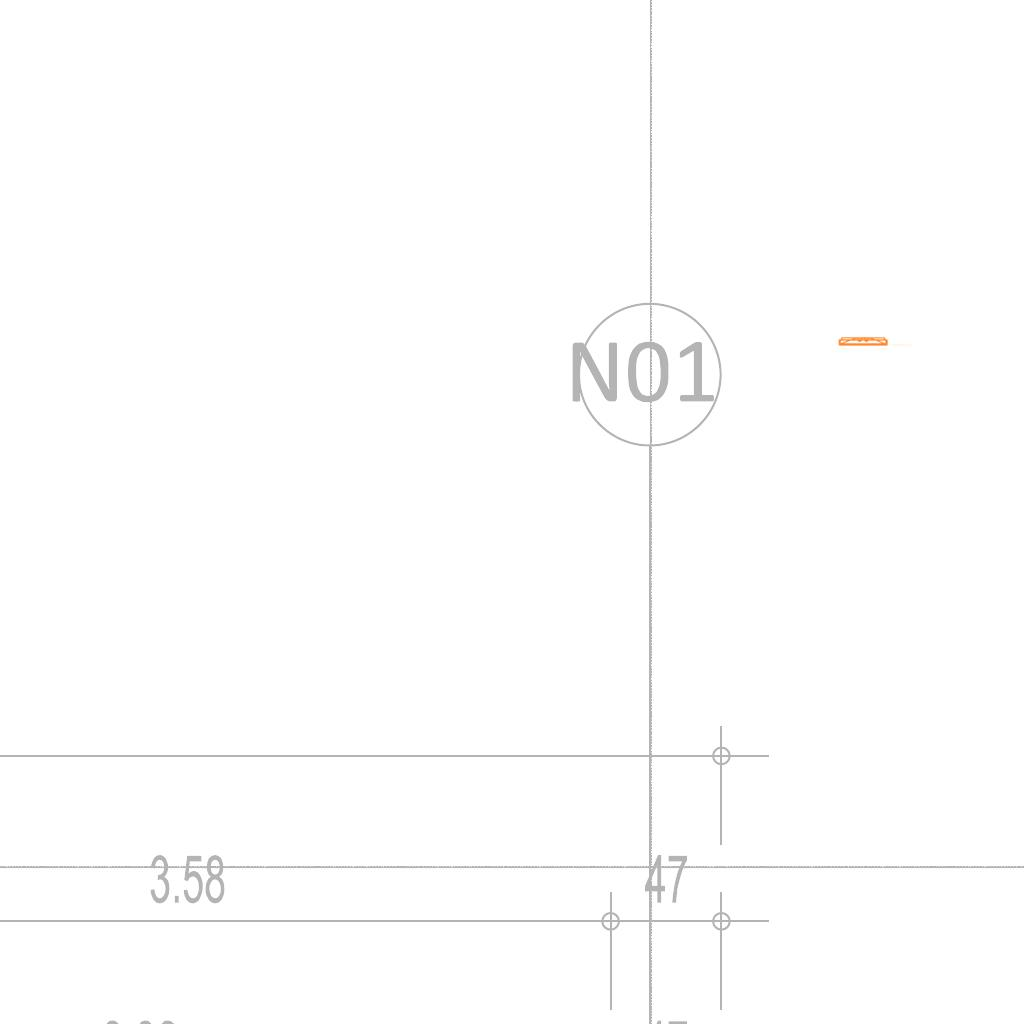Sicherheitsleuchte_Wandeinbau: (836, 335, 915, 347)
